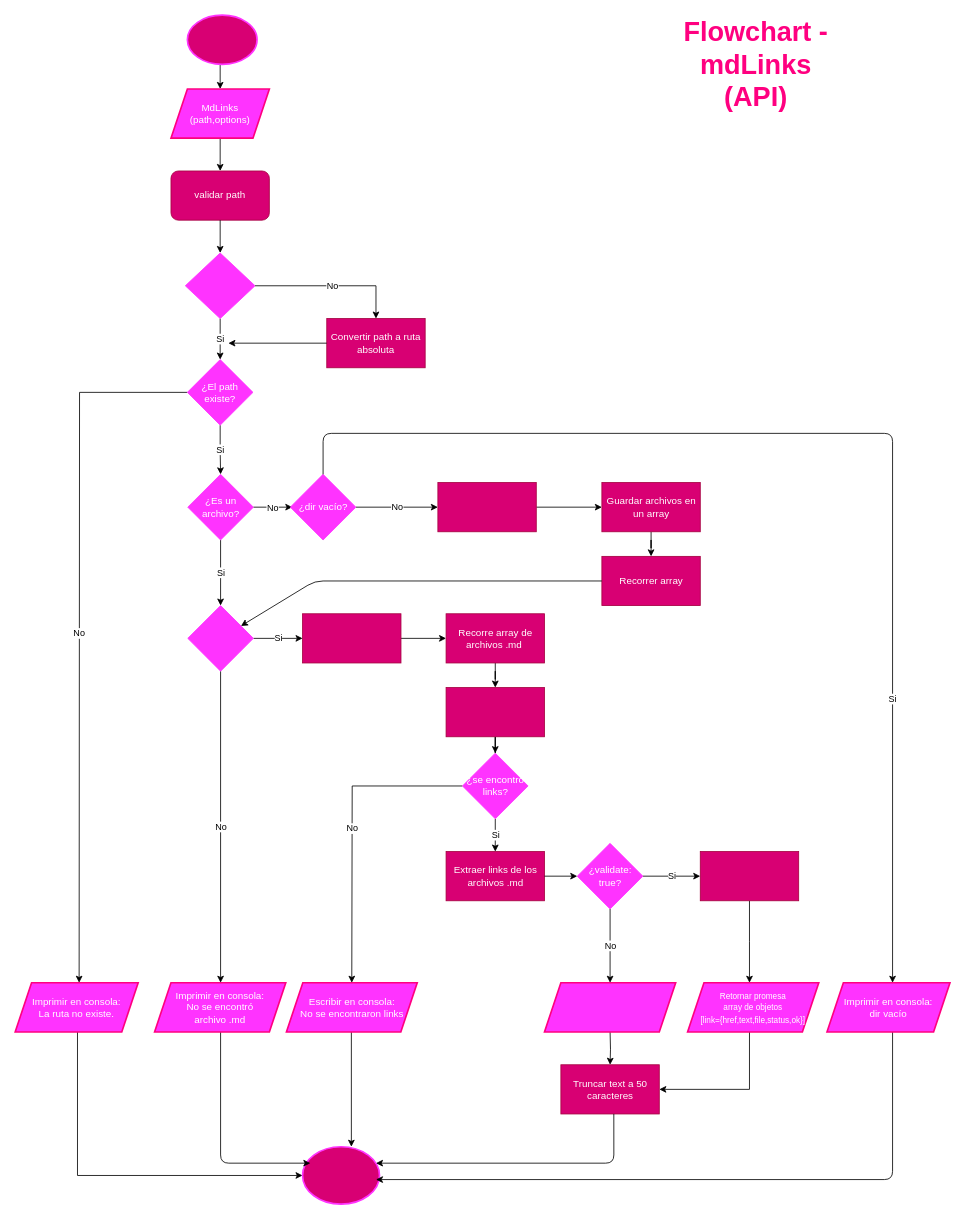
Some shapes in this 964 by 1219 pixel diagram are drawn without their labels. The shapes that lost their labels are listed below. From the top down, each one's centre as x and y in pixels, then its label:
[221,39]: Inicio
[219,285]: ¿Path es absoluta?
[486,507]: Recorrer el dir (buscar archivos)
[220,638]: ¿Es un archivo md?
[351,638]: Guardar path archivo .md
[494,712]: Leer archivo .md
[749,876]: Hacer petición http (código de respuesta status links)
[609,1007]: Retornar promesa array de objetos [link={href,text,file}]
[340,1175]: Fin
